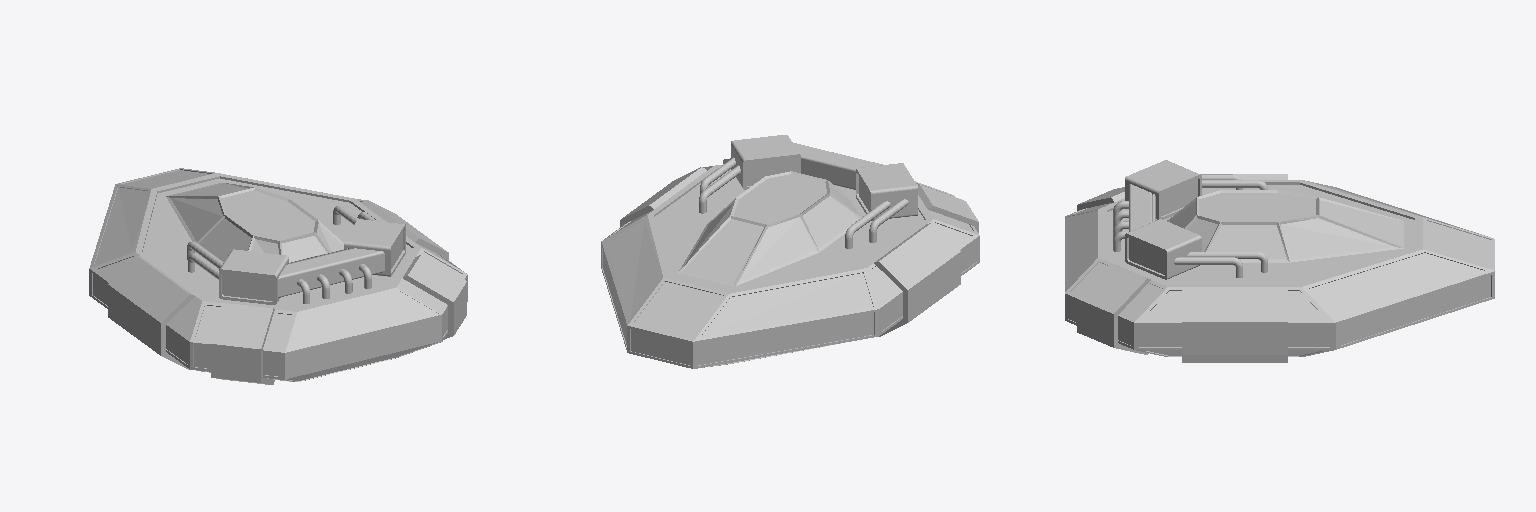
Rendered from ship_test_sirine_small.obj.
3 renders of one model, left to right at view 1: azimuth 30°, elevation 25°; view 2: azimuth 150°, elevation 25°; view 3: azimuth 270°, elevation 25°, orthographic.
Size of the model in its own units: 0.3065 by 0.1039 by 0.397.